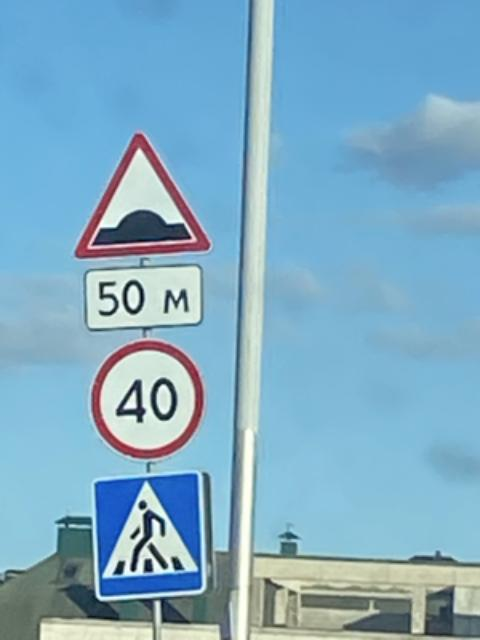crosswalk-sign: (90, 470, 211, 602)
